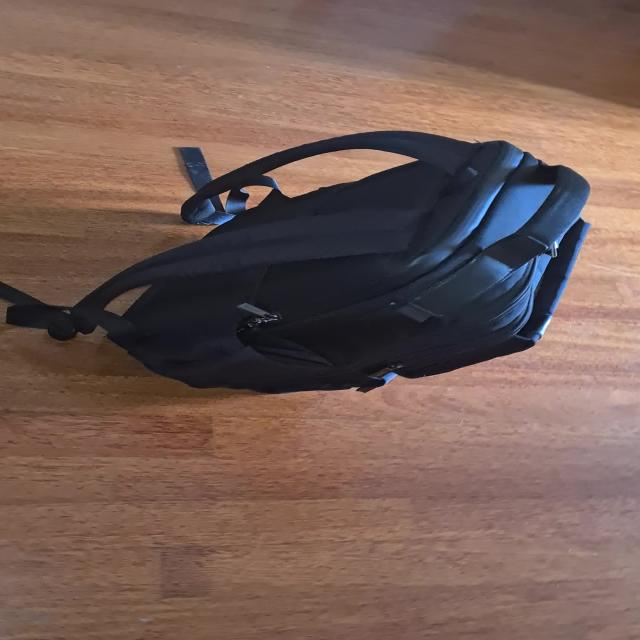backpack: (62, 117, 605, 395)
